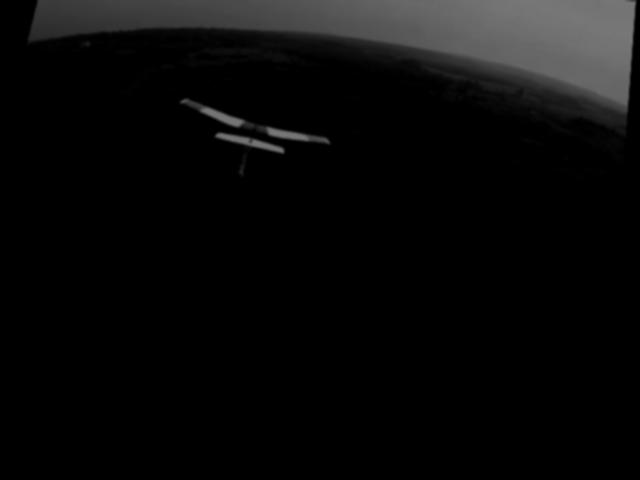hedef: (153, 82, 345, 220)
